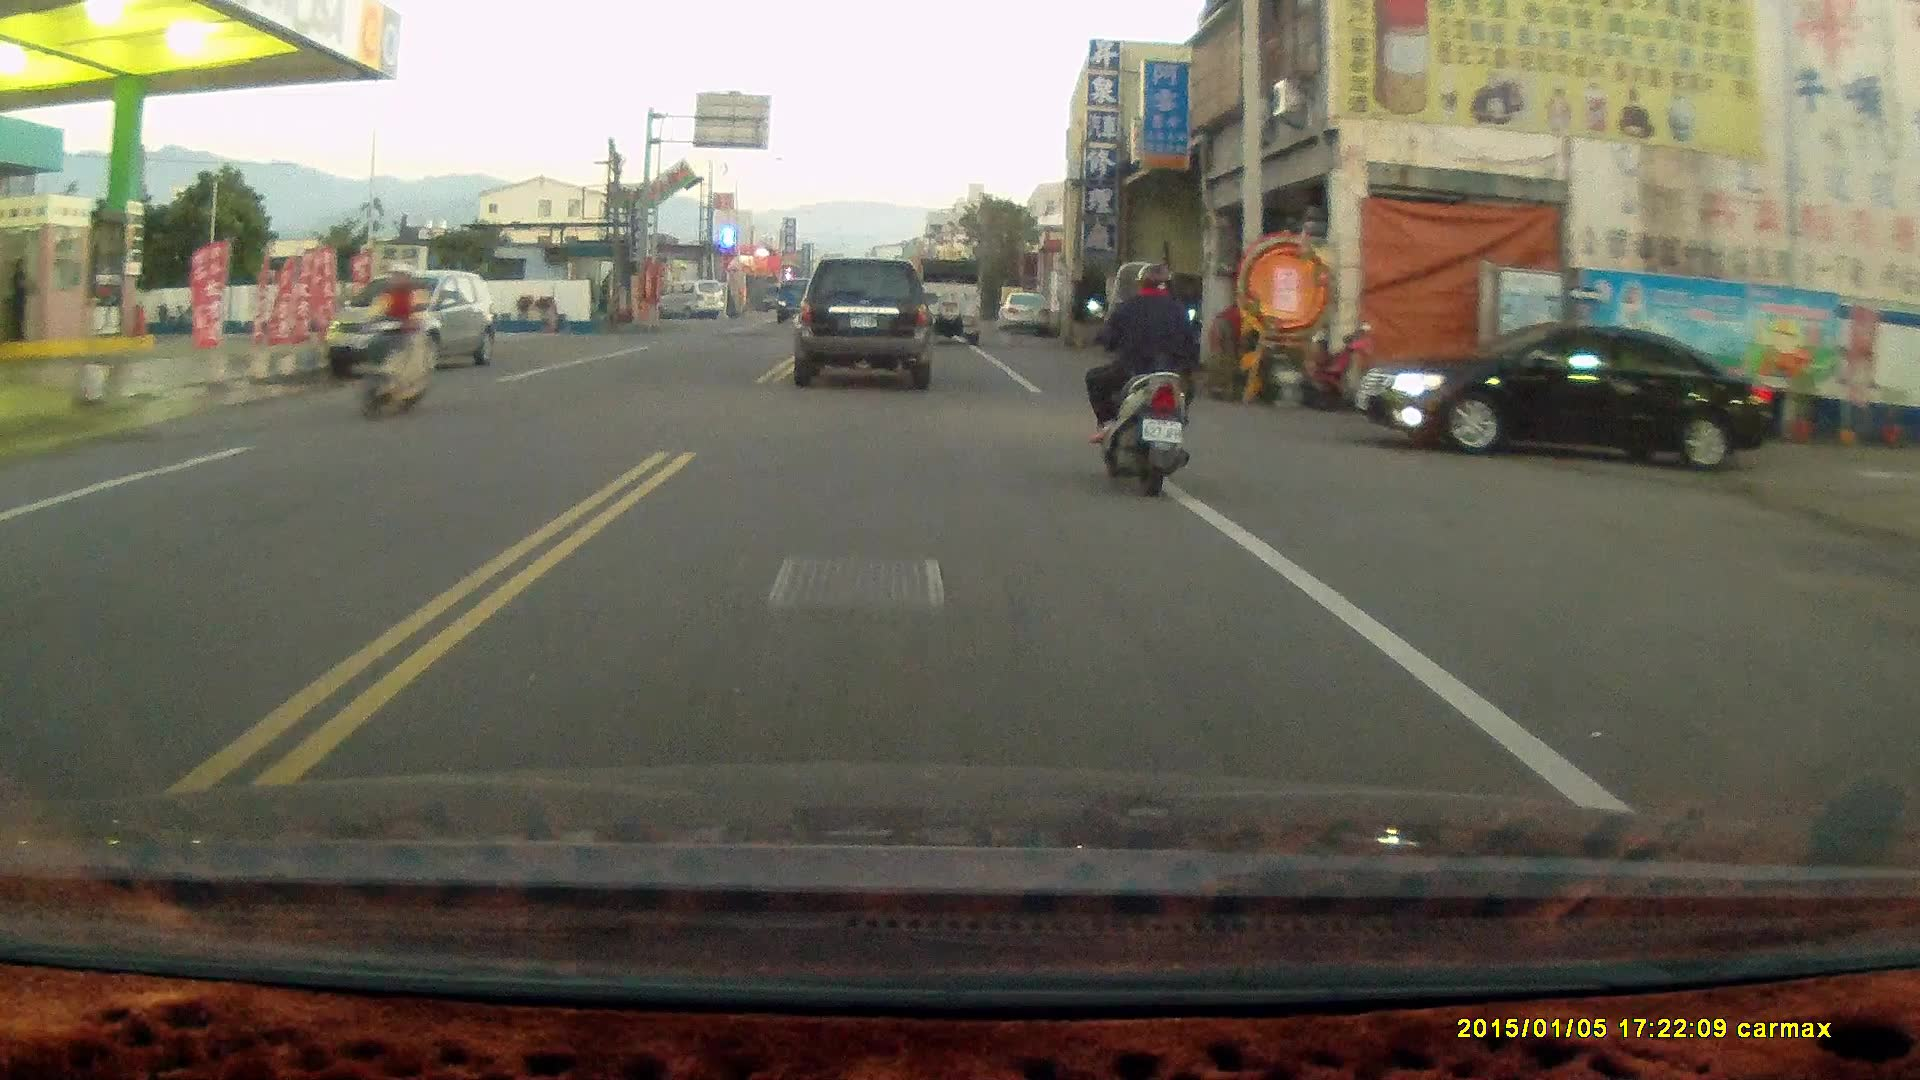rider: (1082, 261, 1192, 500), (348, 260, 436, 422)
vehicle: (1360, 328, 1790, 477), (791, 255, 939, 391), (323, 267, 499, 381), (903, 259, 982, 349), (997, 294, 1052, 336)
